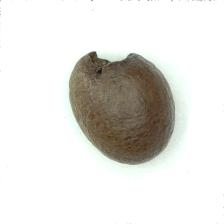NG: (83, 45, 143, 78)
